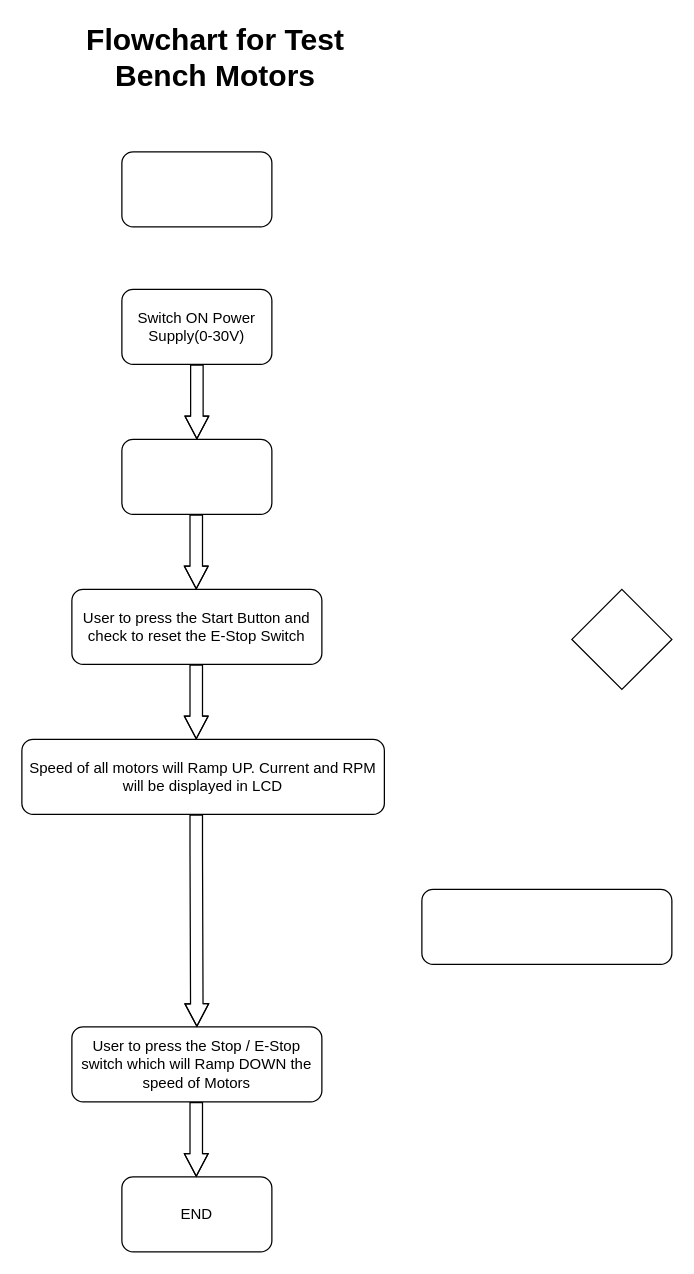
Some shapes in this 694 by 1274 pixel diagram are drawn without their labels. Here are the shapes that lost their labels. From the top down, the centre of each, then its label:
the point at 196,189: Start
the point at 196,476: LCD will display Press Start Button
the point at 546,926: In case of Emergency press E-Stop
